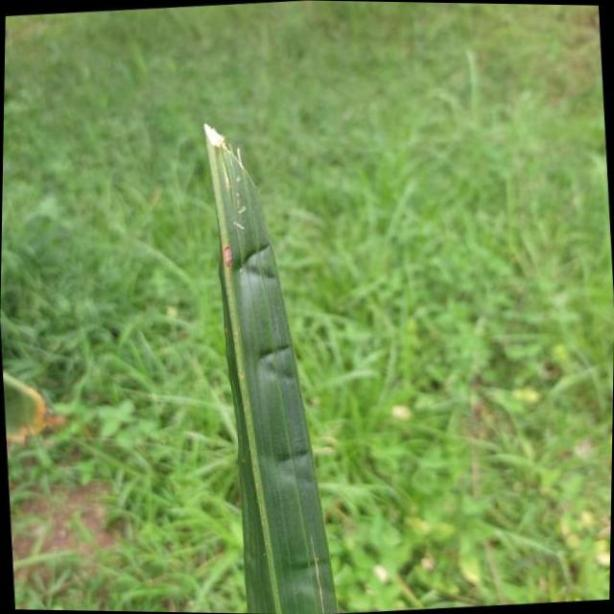Boron: (198, 121, 334, 614)
